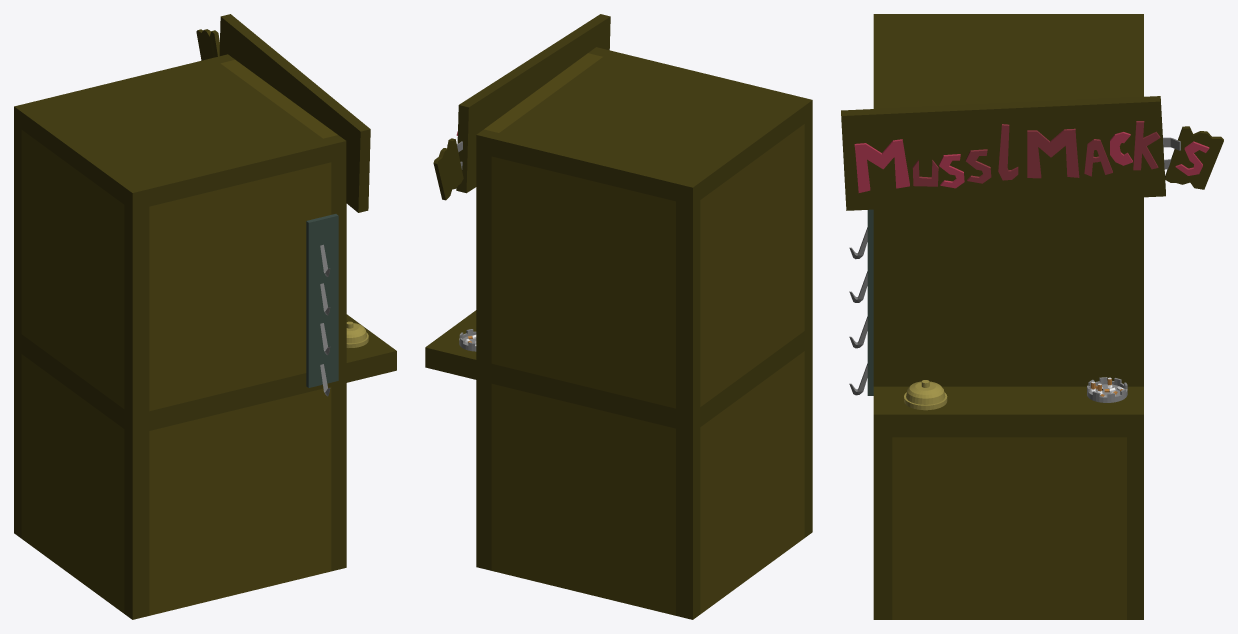
Rendered from Kiosk.fbx.
3 renders of one model, left to right at view 1: azimuth 30°, elevation 25°; view 2: azimuth 150°, elevation 25°; view 3: azimuth 270°, elevation 25°, orthographic. The views are drawn at different scales.
Visible parts, largest first — view 1: KioskBase, Sign, Cube.013, Cube.009; view 2: KioskBase, Sign, Cube.009; view 3: KioskBase, Sign, Cube.009, Cube, Cube.001, Cube.013, Bell, Cube.008, Ashtray, Cube.006, Cube.005, Cube.003 (+2 smaller).
Boxes of the visible parts, <box> form: KioskBase: <box>14,54,396,619</box>; Sign: <box>219,14,370,212</box>; Cube.013: <box>306,214,338,387</box>; Cube.009: <box>196,29,219,60</box>; KioskBase: <box>425,47,812,619</box>; Sign: <box>456,14,610,193</box>; Cube.009: <box>433,138,463,200</box>; KioskBase: <box>873,14,1143,619</box>; Sign: <box>841,96,1165,210</box>; Cube.009: <box>1165,126,1223,189</box>; Cube: <box>854,139,909,192</box>; Cube.001: <box>1027,128,1079,178</box>; Cube.013: <box>867,209,873,395</box>; Bell: <box>904,380,947,410</box>; Cube.008: <box>1133,121,1160,170</box>; Ashtray: <box>1087,377,1127,402</box>; Cube.006: <box>1084,139,1112,176</box>; Cube.005: <box>998,124,1018,180</box>; Cube.003: <box>939,154,964,188</box>.
Bounding box in the file's own units: 536 × 890 × 589.
